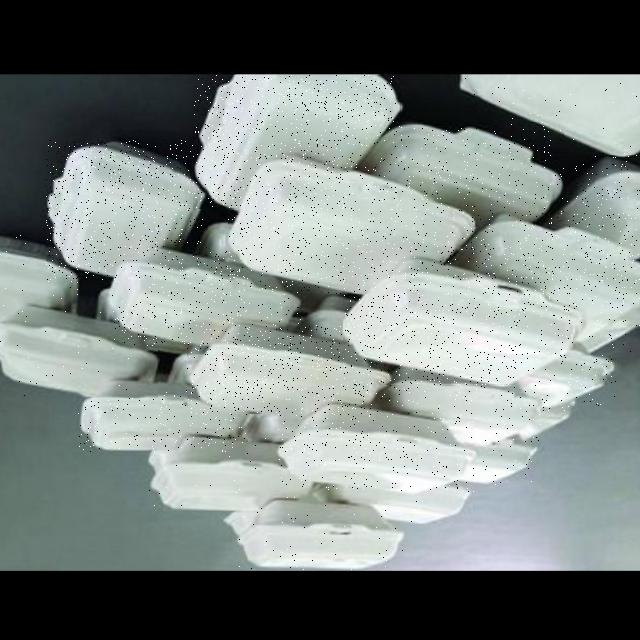styrofoam: (228, 154, 469, 294), (344, 256, 586, 384), (194, 75, 401, 208), (446, 213, 640, 343), (47, 140, 208, 279), (356, 122, 564, 227), (188, 325, 392, 414), (113, 251, 301, 345), (278, 404, 475, 492), (461, 76, 640, 157), (0, 306, 158, 397), (372, 367, 541, 444), (148, 436, 321, 510), (238, 497, 404, 570), (78, 385, 248, 452), (535, 155, 640, 262), (313, 479, 476, 524), (516, 342, 616, 411), (0, 235, 78, 317), (463, 435, 535, 484), (574, 308, 639, 354)
